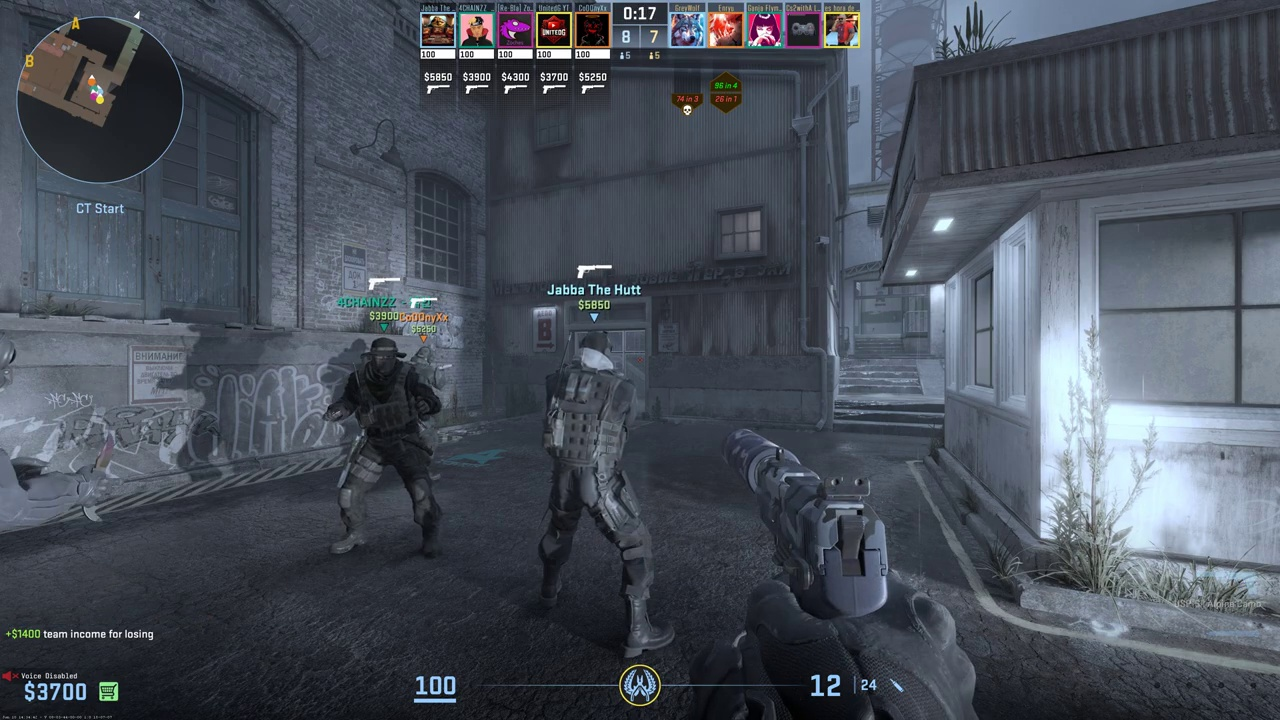CT: (533, 330, 648, 635), (334, 339, 441, 555), (408, 346, 446, 389)
